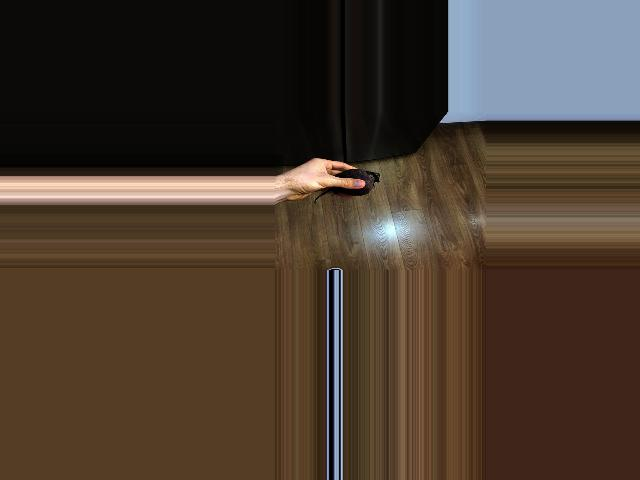beet: (315, 169, 380, 204)
